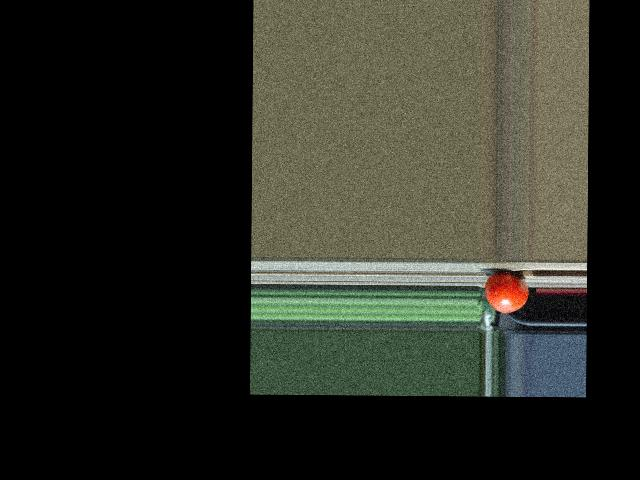tomato: (483, 273, 528, 313)
